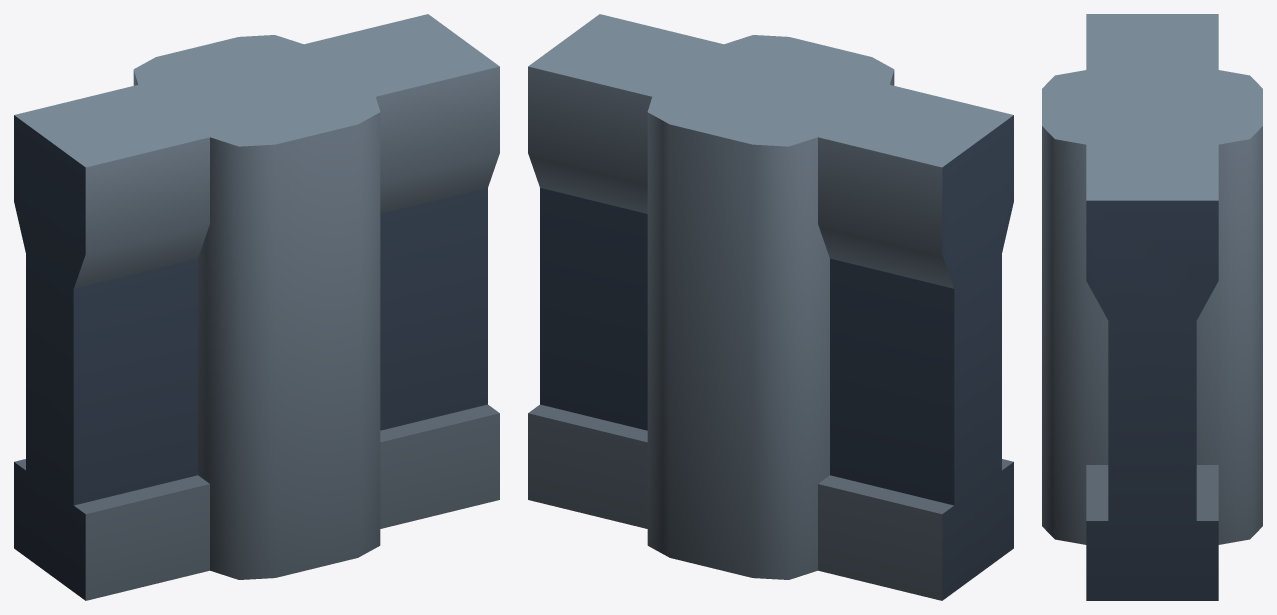
Rendered from wall-pillar.obj.
The picture shows the model from 3 angles, left to right: view 1: azimuth 30°, elevation 25°; view 2: azimuth 150°, elevation 25°; view 3: azimuth 270°, elevation 25°; orthographic projection. The views are drawn at different scales.
Visible parts, largest first — view 1: wall-pillar; view 2: wall-pillar; view 3: wall-pillar.
Part boxes in pixels (<box>): wall-pillar: <box>14,14,499,600</box>; wall-pillar: <box>528,14,1013,600</box>; wall-pillar: <box>1042,14,1262,600</box>.
Size of the model in its own units: 1 by 1 by 0.5.
